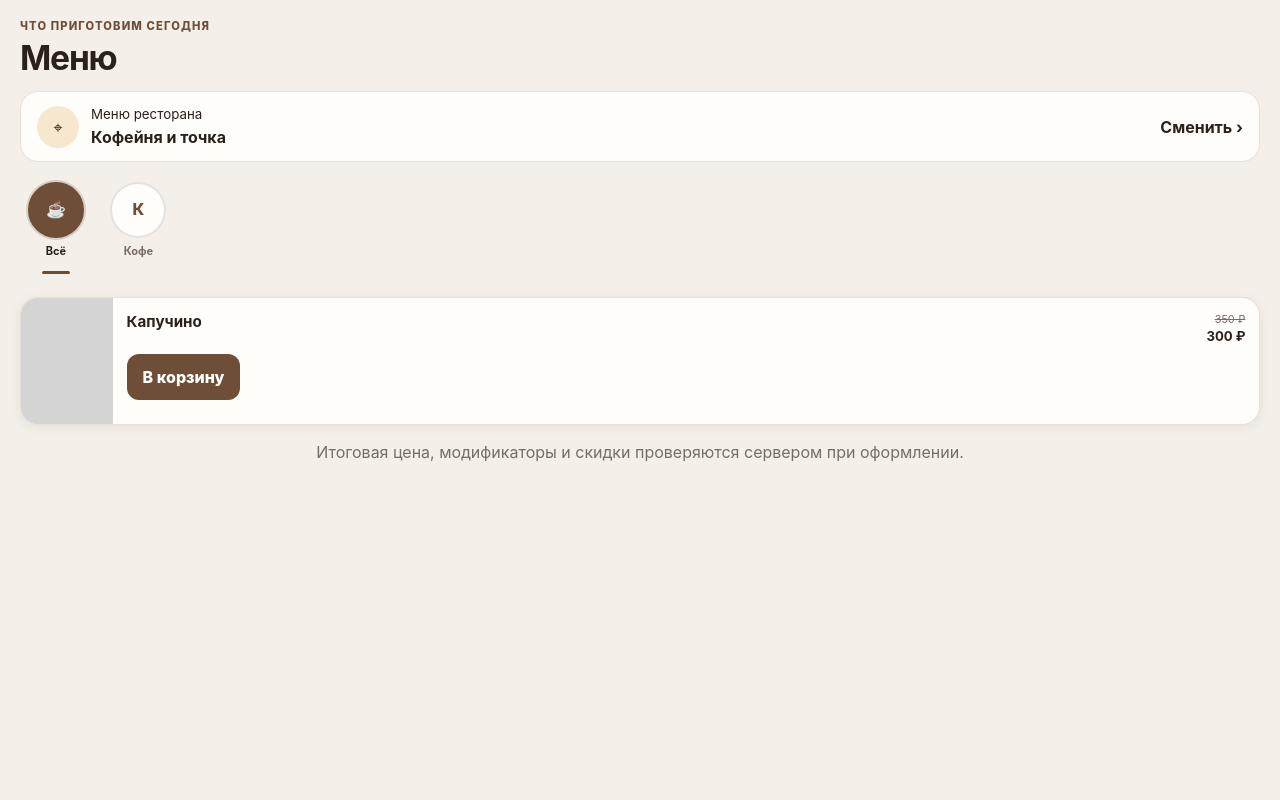
Test case: order flows › requires a configured modifier and keeps the item in the cart
This screenshot has width=1280, height=800.
Expected: the text "350 ₽" is shown, [1215,312,1245,326]
What coordinates should you click on to do the following:
click the button "В корзину"
I would click on:
 (184, 377)
Its box is [127,354,240,400].
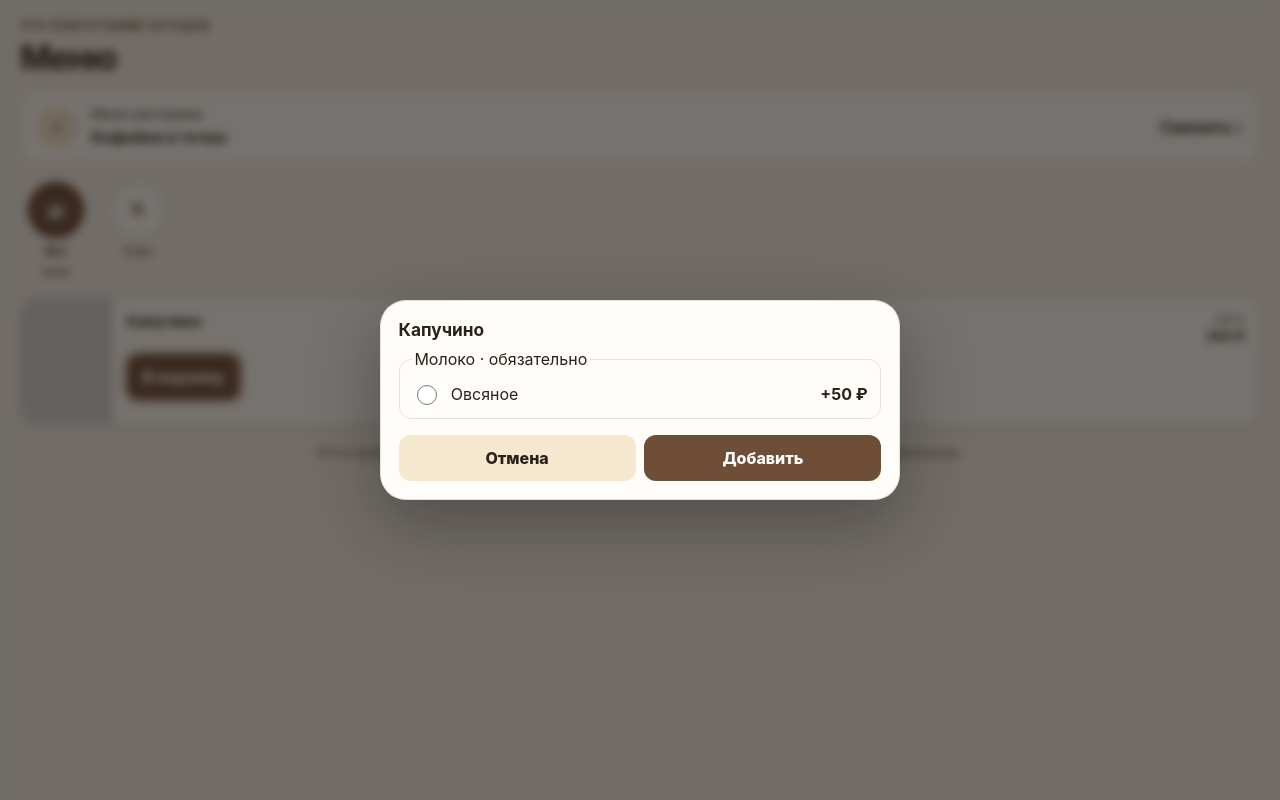
What coordinates should you click on to do the following:
click the radio button labelled "Овсяное +50 ₽"
I would click on:
 (427, 395)
Its box is [417,385,437,405].
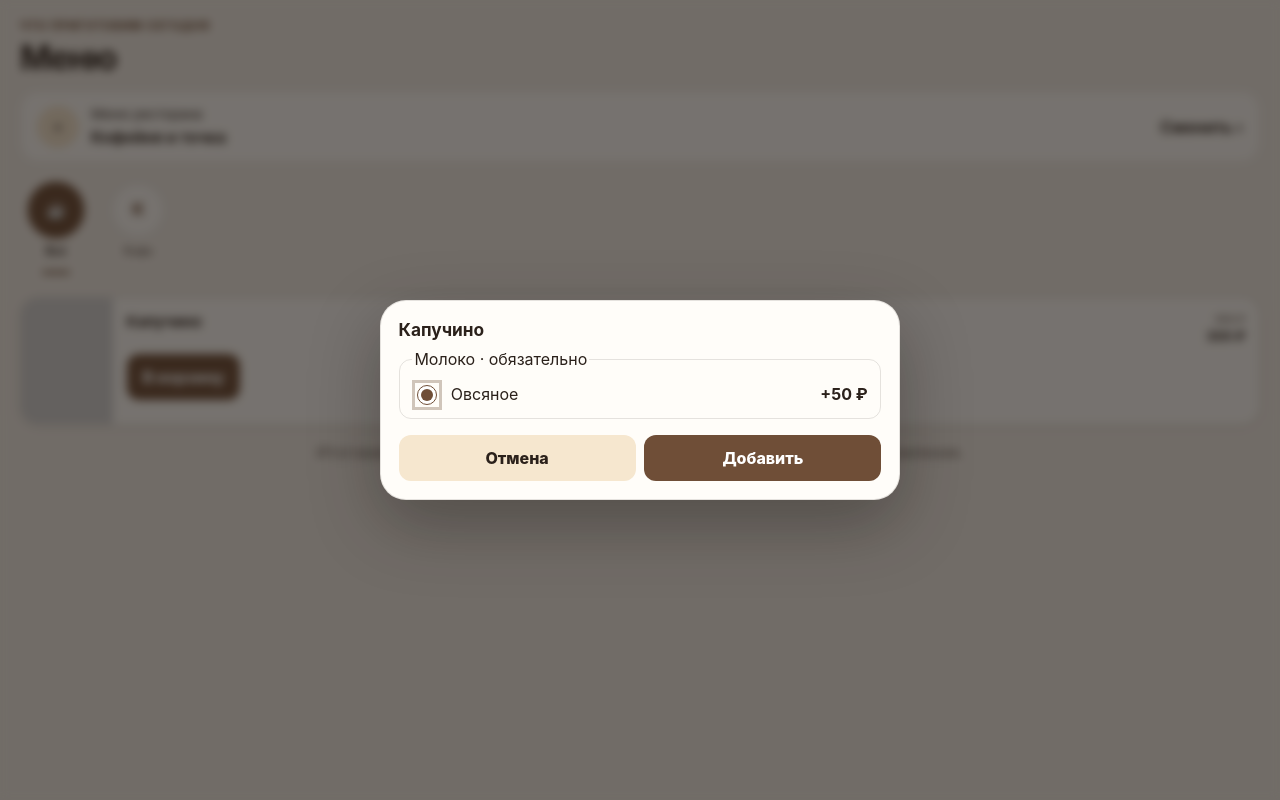
What coordinates should you click on to do the following:
click the button "Добавить"
I would click on:
 (763, 458)
Its box is [644,435,881,481].
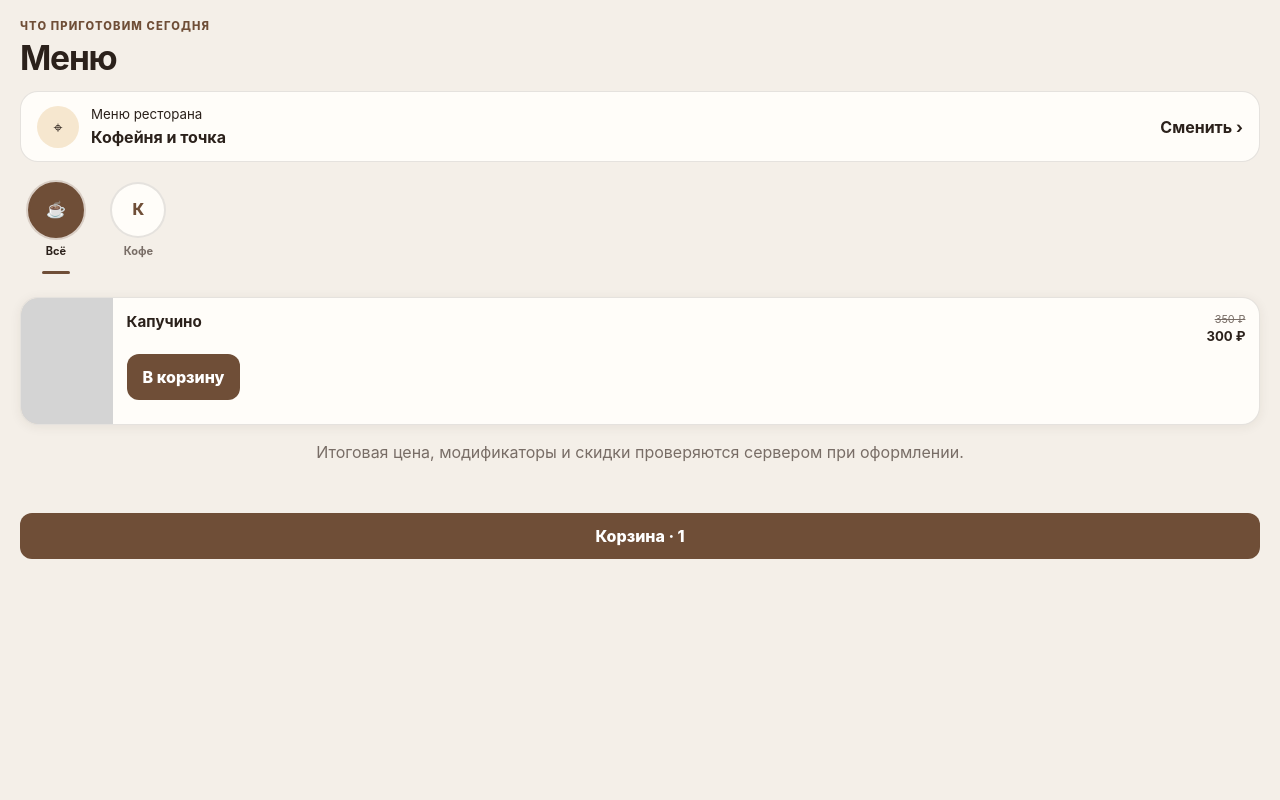
What coordinates should you click on to do the following:
click the link "Корзина · 1"
I would click on:
 (640, 536)
Its box is [20,513,1260,559].
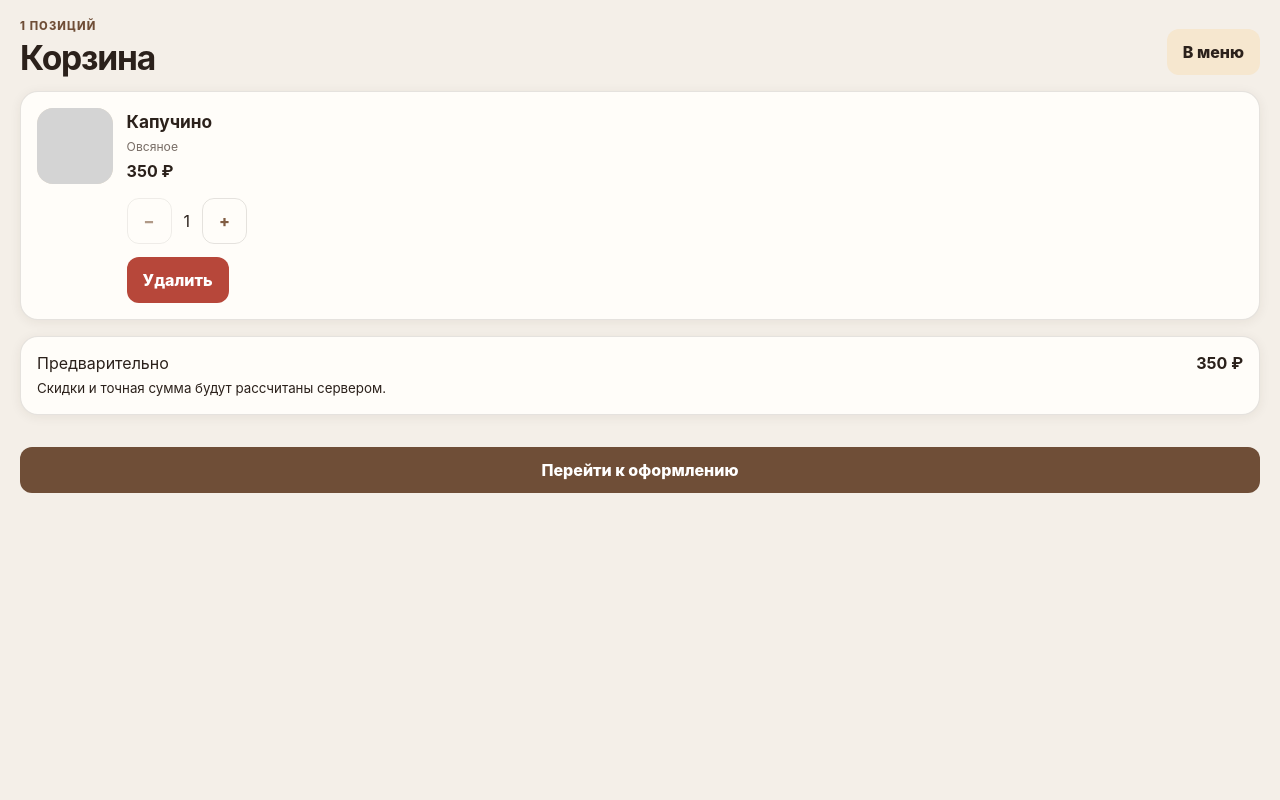
Expected: the text "350 ₽" is shown 2 times, [127,161,173,181]; [1196,353,1243,373]
Expected: the heading "Корзина" is shown, [20,40,155,75]
Expected: the text "Овсяное" is shown, [127,139,178,154]
